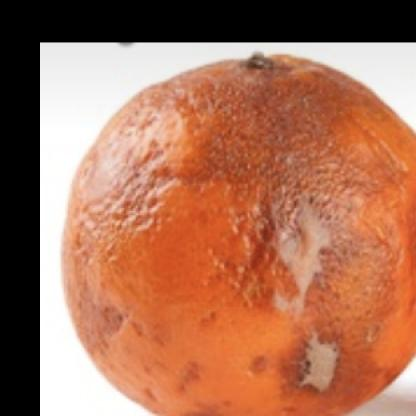rotten: (62, 47, 416, 416)
